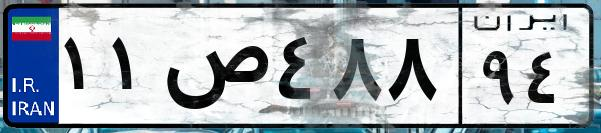1: (57, 26, 110, 100), (110, 28, 158, 98)
4: (270, 28, 330, 110), (525, 38, 570, 115)
8: (385, 28, 445, 110), (330, 28, 385, 110)
9: (475, 38, 525, 113)
ص: (158, 20, 270, 120)
